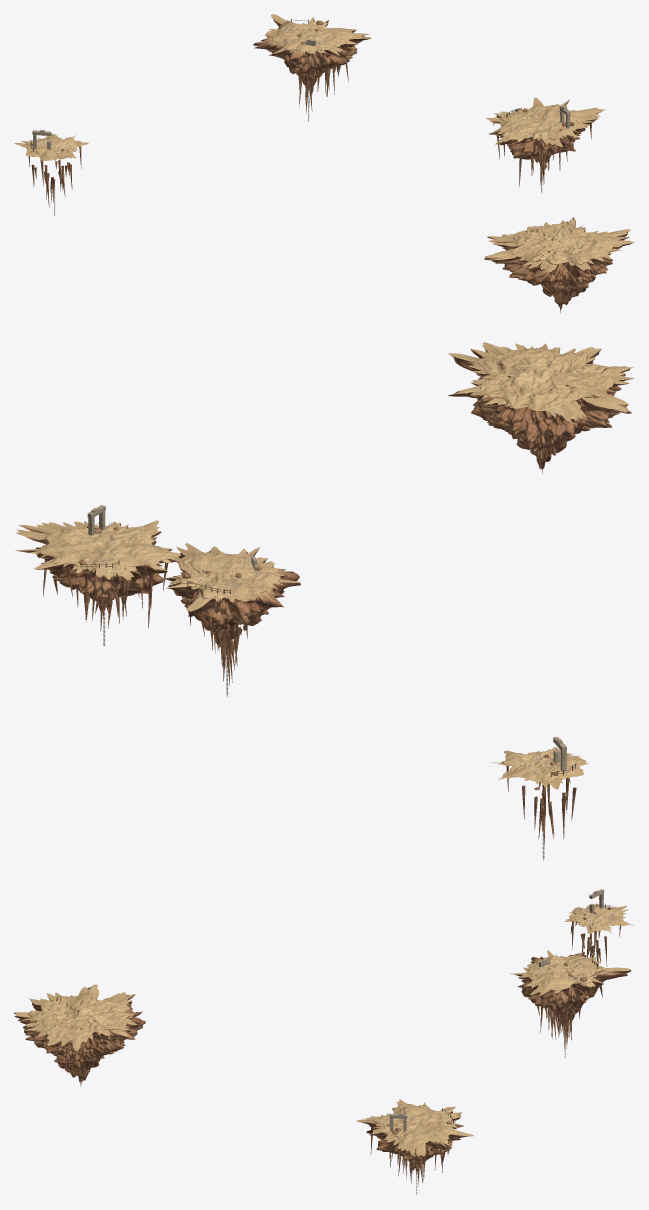
File: map_islands_07.glb
3 renders of one model, top to bottom at view 1: azimuth 30°, elevation 25°; view 2: azimuth 150°, elevation 25°; view 3: azimuth 270°, elevation 25°, orthographic. The views are drawn at different scales.
Parts seen in each view (by area): view 1: Isl07_top__sand, Isl08_top__sand, Isl06_under__cliff_00, Isl08_under__cliff, Isl06_top__sand_00, Isl07_under__cliff, Isl06_top__sand_01, Isl06_top__sand_02, Isl09_top__sand, Isl09_props__cliff, Isl08_props__cliff, Isl06_under__sand (+3 smaller); view 2: Isl07_top__sand, Isl08_top__sand, Isl06_under__cliff_00, Isl06_top__sand_00, Isl08_under__cliff, Isl07_under__cliff, Isl06_top__sand_01, Isl09_top__sand, Isl06_top__sand_02, Isl07_props__cliff, Isl06_under__sand, Isl06_under__cliff_01 (+2 smaller); view 3: Isl07_top__sand, Isl08_top__sand, Isl08_under__cliff, Isl06_top__sand_00, Isl06_under__cliff_00, Isl06_top__sand_01, Isl07_under__cliff, Isl09_top__sand, Isl06_top__sand_02, Isl06_under__cliff_01, Isl08_props__cliff, Isl06_under__sand (+3 smaller).
Part boxes in pixels (x1,y1,x2,y2): Isl07_top__sand: (486,97,605,146); Isl08_top__sand: (266,14,371,55); Isl06_under__cliff_00: (484,217,631,288); Isl08_under__cliff: (253,19,371,90); Isl06_top__sand_00: (518,225,599,258); Isl07_under__cliff: (489,99,601,165); Isl06_top__sand_01: (508,221,605,265); Isl06_top__sand_02: (488,220,634,270); Isl09_top__sand: (14,133,88,160); Isl09_props__cliff: (28,141,81,207); Isl08_props__cliff: (293,20,348,113); Isl06_under__sand: (485,218,627,273); Isl07_top__sand: (14,520,180,580); Isl08_top__sand: (164,543,299,611); Isl06_under__cliff_00: (448,346,633,442); Isl06_top__sand_00: (484,352,605,404); Isl08_under__cliff: (163,548,300,649); Isl07_under__cliff: (16,523,175,611); Isl06_top__sand_01: (470,349,613,413); Isl09_top__sand: (489,747,589,789); Isl06_top__sand_02: (448,342,634,422); Isl07_props__cliff: (43,526,168,631); Isl06_under__sand: (454,343,633,423); Isl06_under__cliff_01: (451,349,577,473); Isl07_top__sand: (356,1101,473,1155); Isl08_top__sand: (510,950,630,995); Isl08_under__cliff: (513,951,630,1026); Isl06_top__sand_00: (41,995,126,1035); Isl06_under__cliff_00: (14,986,145,1057); Isl06_top__sand_01: (35,993,134,1037); Isl07_under__cliff: (358,1104,470,1170); Isl09_top__sand: (564,904,633,933); Isl06_top__sand_02: (15,992,134,1050); Isl06_under__cliff_01: (23,1028,107,1086); Isl08_props__cliff: (537,960,602,1049); Isl06_under__sand: (15,984,137,1049).
Bounding box in the file's own units: 385 × 111 × 414.
Materials: 7 (4 with a texture image).
